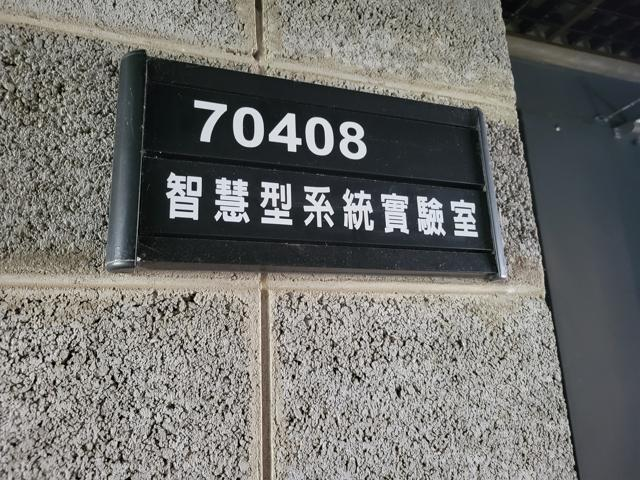doorplate: (101, 40, 513, 288)
